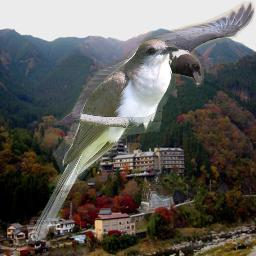Crow: (50, 1, 255, 129)
Cuckoo: (29, 38, 179, 242)
